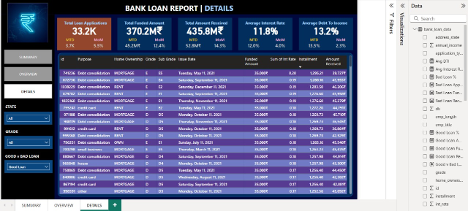

The page's visual inventory and layout, read from the dashboard file:
{"tool":"powerbi","page":{"name":"DETAILS","canvas":[1280,720],"ordinal":2},"visuals":[{"type":"shape","box":[0,54.9,192,665],"z":0},{"type":"shape","box":[0,0,1281,54.8],"z":1000},{"type":"textbox","box":[440.5,8.3,454.8,46.4],"z":2000},{"type":"shape","box":[852.8,66.4,195.1,117.1],"z":3000,"group":"g4"},{"type":"shape","box":[201.2,66.7,195.1,117.1],"z":3000,"group":"g1"},{"type":"shape","box":[418.4,66.7,195.1,117.1],"z":3000,"group":"g2"},{"type":"shape","box":[635.6,66.7,195.1,117.1],"z":3000,"group":"g3"},{"type":"shape","box":[1070.2,66.7,195.1,117.1],"z":3000,"group":"g5"},{"type":"shape","box":[203.6,192.9,1061.9,517.9],"z":3000},{"type":"group","id":"g1","title":"Group 1","box":[201.2,66.7,195.2,117.9],"z":4000},{"type":"card","fields":{"Values":["bank_loan_data.Avg Interest Rate"]},"box":[874.8,84.7,152.4,53.7],"z":4000,"group":"g4"},{"type":"card","fields":{"Values":["bank_loan_data.Total Loan Applications"]},"box":[223.2,85,152.4,53.7],"z":4000,"group":"g1"},{"type":"card","fields":{"Values":["bank_loan_data.Total Funded Amount"]},"box":[440.4,85,152.4,53.7],"z":4000,"group":"g2"},{"type":"card","fields":{"Values":["bank_loan_data.Total Amount Received"]},"box":[657.6,85,152.4,53.7],"z":4000,"group":"g3"},{"type":"card","fields":{"Values":["bank_loan_data.Avg DTI"]},"box":[1092.2,85,152.4,53.7],"z":4000,"group":"g5"},{"type":"group","id":"g2","title":"Group 1","box":[418.4,66.7,195.2,117.1],"z":5000},{"type":"textbox","box":[873,69.7,175,28.6],"z":5000,"group":"g4"},{"type":"textbox","box":[221.4,70,175,28.6],"z":5000,"group":"g1"},{"type":"textbox","box":[438.6,70,175,28.6],"z":5000,"group":"g2"},{"type":"textbox","box":[655.8,70,175,28.6],"z":5000,"group":"g3"},{"type":"textbox","box":[1077.1,70.7,185.7,35.7],"z":5000,"group":"g5"},{"type":"card","title":"MTD","fields":{"Values":["bank_loan_data.MTD Avd Interest Rate"]},"box":[871.3,135.8,71.4,47.6],"z":6000,"group":"g4"},{"type":"card","title":"MTD","fields":{"Values":["bank_loan_data.MTD Funded Amount"]},"box":[436.9,136.1,71.4,47.6],"z":6000,"group":"g2"},{"type":"card","title":"MTD","fields":{"Values":["bank_loan_data.MTD Total Amount Received"]},"box":[654.1,136.1,71.4,47.6],"z":6000,"group":"g3"},{"type":"card","title":"MTD","fields":{"Values":["bank_loan_data.MTD Avg DTI"]},"box":[1088.7,136.1,71.4,47.6],"z":6000,"group":"g5"},{"type":"card","title":"MTD","fields":{"Values":["bank_loan_data.MTD Loan Applications"]},"box":[223.2,136.2,50,47.6],"z":6000,"group":"g1"},{"type":"textbox","box":[11.2,372.5,62.5,28.8],"z":6000},{"type":"group","id":"g3","title":"Group 1","box":[635.6,66.7,195.2,117.9],"z":7000},{"type":"card","title":"MoM","fields":{"Values":["bank_loan_data.MoM Avg Interest Rate"]},"box":[968.9,135.8,67.9,47.6],"z":7000,"group":"g4"},{"type":"card","title":"MoM","fields":{"Values":["bank_loan_data.MoM Total Funded Amount"]},"box":[534.5,136.1,67.9,47.6],"z":7000,"group":"g2"},{"type":"card","title":"MoM","fields":{"Values":["bank_loan_data.MoM Total Amount Received"]},"box":[751.7,136.1,67.9,47.6],"z":7000,"group":"g3"},{"type":"card","title":"MoM","fields":{"Values":["bank_loan_data.MoM Avg DTI"]},"box":[1186.3,136.1,67.9,47.6],"z":7000,"group":"g5"},{"type":"card","title":"MoM","fields":{"Values":["bank_loan_data.MoM Loan Applications"]},"box":[325.6,136.2,50,47.6],"z":7000,"group":"g1"},{"type":"group","id":"g4","title":"Group 1","box":[852.8,66.4,195.5,117],"z":8000},{"type":"group","id":"g5","title":"Group 1","box":[1070.2,66.7,195.1,117.1],"z":9000},{"type":"slicer","fields":{"Values":["bank_loan_data.address_state"]},"box":[11.2,405,172.5,46.2],"z":10000},{"type":"slicer","fields":{"Values":["bank_loan_data.grade"]},"box":[12.5,491.2,172.5,46.2],"z":11000},{"type":"textbox","box":[11.2,462.5,62.5,28.8],"z":12000},{"type":"textbox","box":[10,550,161.2,28.8],"z":13000},{"type":"slicer","fields":{"Values":["bank_loan_data.Good v Bad Loan"]},"box":[12.5,578.8,172.5,46.2],"z":14000},{"type":"tableEx","fields":{"Values":["bank_loan_data.id","bank_loan_data.purpose","bank_loan_data.home_ownership","bank_loan_data.grade","bank_loan_data.sub_grade","bank_loan_data.issue_date","bank_loan_data.Total Funded Amount","Sum(bank_loan_data.int_rate)","Sum(bank_loan_data.installment)","bank_loan_data.Total Amount Received"]},"box":[203.6,197.6,1061.9,508.3],"z":15000},{"type":"image","box":[17.5,8.8,156.2,152.5],"z":16000},{"type":"pageNavigator","box":[11.2,181.2,173.8,178.8],"z":17000}]}

Visuals, with their boxes on the page's 1280x720 design canvas (x1, y1, x2, y2). These are canvas units, not pixel positions in the 468x211 screenshot, which may show the page scaled, cropped or inside an application window:
shape: x1=0 y1=55 x2=192 y2=720
shape: x1=0 y1=0 x2=1281 y2=55
textbox: x1=440 y1=8 x2=895 y2=55
shape: x1=853 y1=66 x2=1048 y2=184
shape: x1=201 y1=67 x2=396 y2=184
shape: x1=418 y1=67 x2=614 y2=184
shape: x1=636 y1=67 x2=831 y2=184
shape: x1=1070 y1=67 x2=1265 y2=184
shape: x1=204 y1=193 x2=1266 y2=711
"Group 1" group: x1=201 y1=67 x2=396 y2=185
card - bank_loan_data.Avg Interest Rate: x1=875 y1=85 x2=1027 y2=138
card - bank_loan_data.Total Loan Applications: x1=223 y1=85 x2=376 y2=139
card - bank_loan_data.Total Funded Amount: x1=440 y1=85 x2=593 y2=139
card - bank_loan_data.Total Amount Received: x1=658 y1=85 x2=810 y2=139
card - bank_loan_data.Avg DTI: x1=1092 y1=85 x2=1245 y2=139
"Group 1" group: x1=418 y1=67 x2=614 y2=184
textbox: x1=873 y1=70 x2=1048 y2=98
textbox: x1=221 y1=70 x2=396 y2=99
textbox: x1=439 y1=70 x2=614 y2=99
textbox: x1=656 y1=70 x2=831 y2=99
textbox: x1=1077 y1=71 x2=1263 y2=106
"MTD" card: x1=871 y1=136 x2=943 y2=183
"MTD" card: x1=437 y1=136 x2=508 y2=184
"MTD" card: x1=654 y1=136 x2=726 y2=184
"MTD" card: x1=1089 y1=136 x2=1160 y2=184
"MTD" card: x1=223 y1=136 x2=273 y2=184
textbox: x1=11 y1=372 x2=74 y2=401
"Group 1" group: x1=636 y1=67 x2=831 y2=185
"MoM" card: x1=969 y1=136 x2=1037 y2=183
"MoM" card: x1=534 y1=136 x2=602 y2=184
"MoM" card: x1=752 y1=136 x2=820 y2=184
"MoM" card: x1=1186 y1=136 x2=1254 y2=184
"MoM" card: x1=326 y1=136 x2=376 y2=184
"Group 1" group: x1=853 y1=66 x2=1048 y2=183
"Group 1" group: x1=1070 y1=67 x2=1265 y2=184
slicer - bank_loan_data.address_state: x1=11 y1=405 x2=184 y2=451
slicer - bank_loan_data.grade: x1=12 y1=491 x2=185 y2=537
textbox: x1=11 y1=462 x2=74 y2=491
textbox: x1=10 y1=550 x2=171 y2=579
slicer - bank_loan_data.Good v Bad Loan: x1=12 y1=579 x2=185 y2=625
tableEx - bank_loan_data.id x bank_loan_data.purpose: x1=204 y1=198 x2=1266 y2=706
image: x1=18 y1=9 x2=174 y2=161
pageNavigator: x1=11 y1=181 x2=185 y2=360
